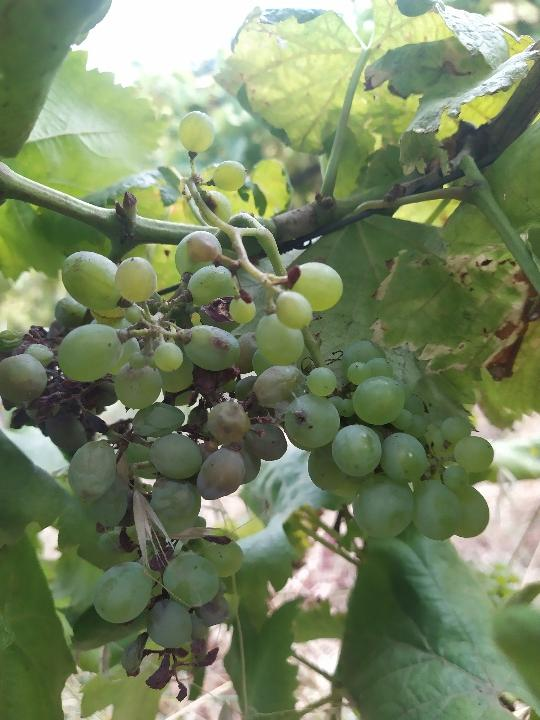grape: (0, 226, 346, 705)
